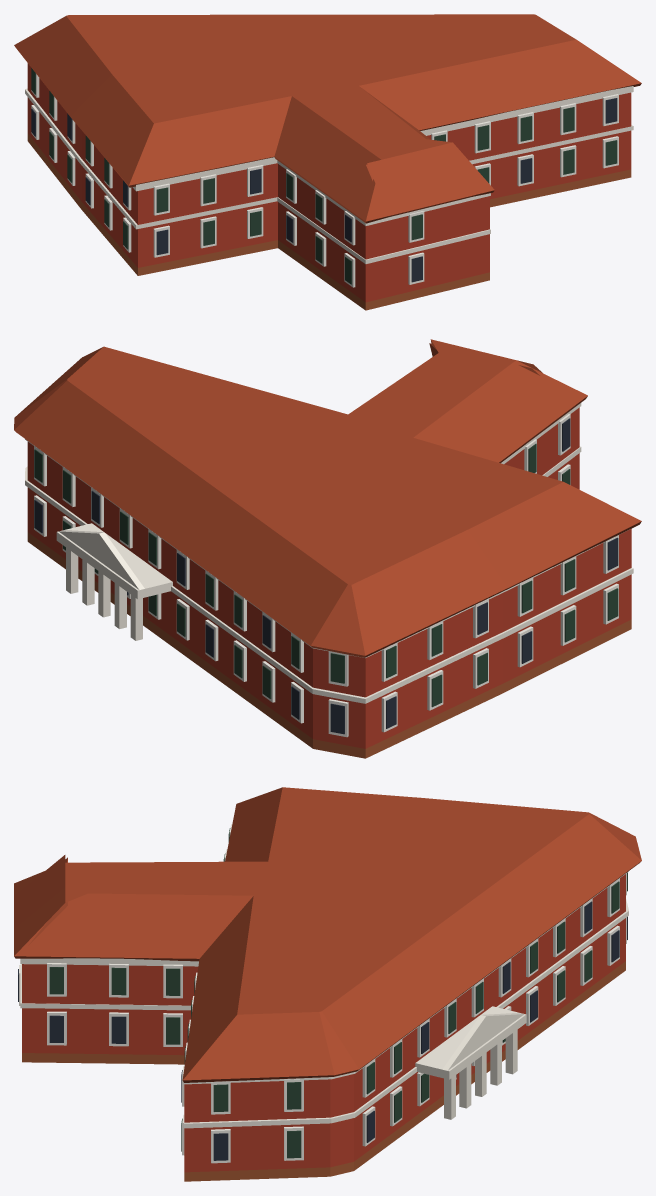
The model's file is postoffice.glb.
3 views of the same model, one above another, from view 1: azimuth 30°, elevation 25°; view 2: azimuth 150°, elevation 25°; view 3: azimuth 270°, elevation 25° (orthographic). The views are drawn at different scales.
Parts seen in each view (by area): view 1: r, p.001, p, p.003, p.002; view 2: r, p.001, p, p.003, Cube.141, m, p.002; view 3: r, p.001, p, p.003, Cube.141, p.002, m.
Part boxes in pixels (box(x1,y1,x2,y2)): r: box(14, 14, 641, 223); p.001: box(27, 63, 631, 302); p: box(27, 133, 631, 310); p.003: box(25, 88, 633, 263); p.002: box(132, 86, 633, 225); r: box(14, 339, 641, 657); p.001: box(27, 407, 631, 748); p: box(27, 532, 631, 758); p.003: box(25, 446, 633, 703); Cube.141: box(56, 523, 172, 599); m: box(59, 530, 144, 589); p.002: box(25, 403, 629, 658); r: box(14, 787, 641, 1082); p.001: box(22, 874, 625, 1172); p: box(22, 961, 625, 1181); p.003: box(20, 899, 628, 1128); Cube.141: box(415, 1006, 526, 1079); p.002: box(20, 871, 628, 1084); m: box(442, 1012, 524, 1070).
Bounding box in the file's own units: 63.28 × 15.9 × 60.72.
